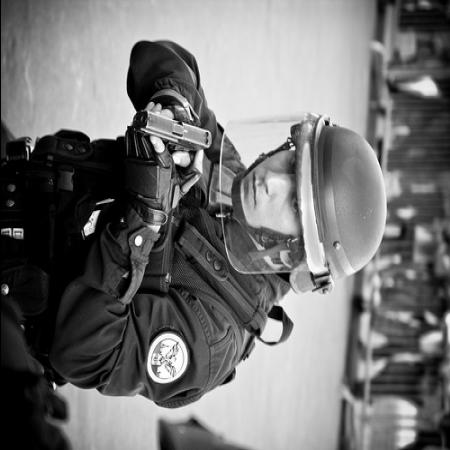Pistol: (130, 108, 212, 154)
